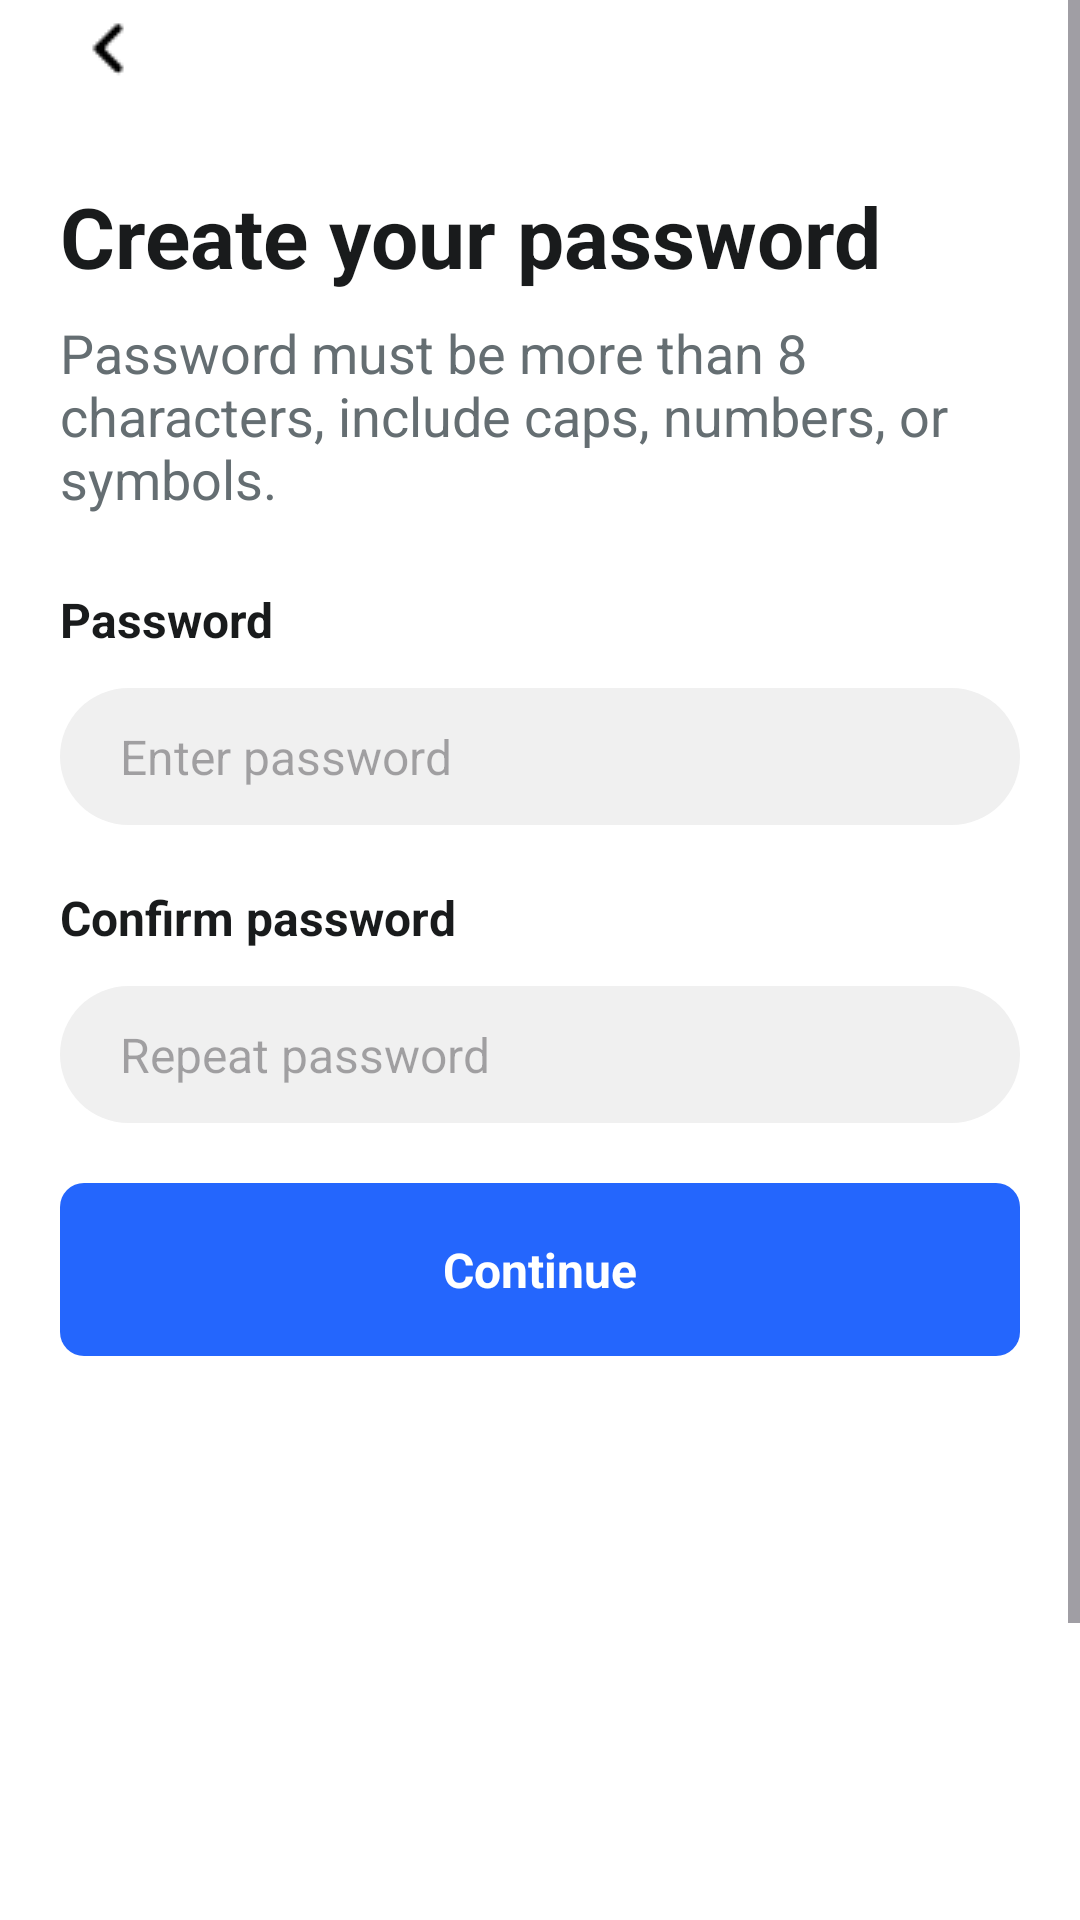

Named icons in this screenshot (1080w x 1920h) and their bounding boxes, [x1=x1, y1=y1, x2=x2, y2=y2]:
back: [x1=92, y1=23, x2=124, y2=74]
